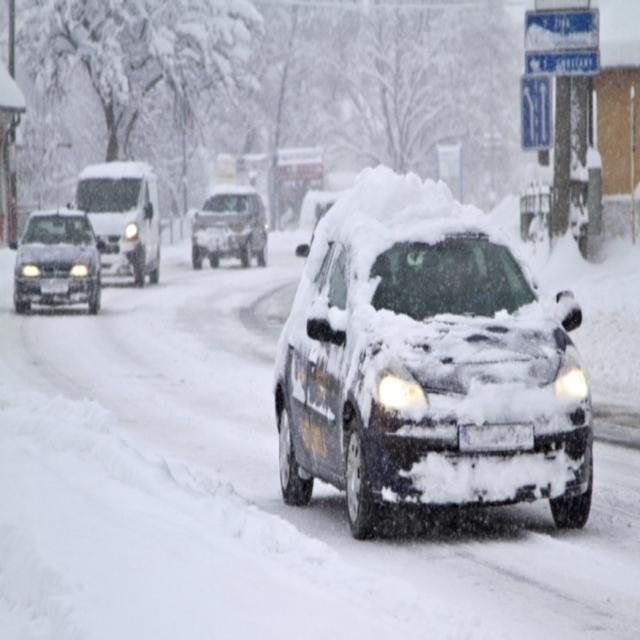car: (269, 176, 601, 546), (73, 160, 161, 286), (13, 209, 103, 317), (190, 186, 268, 272)
